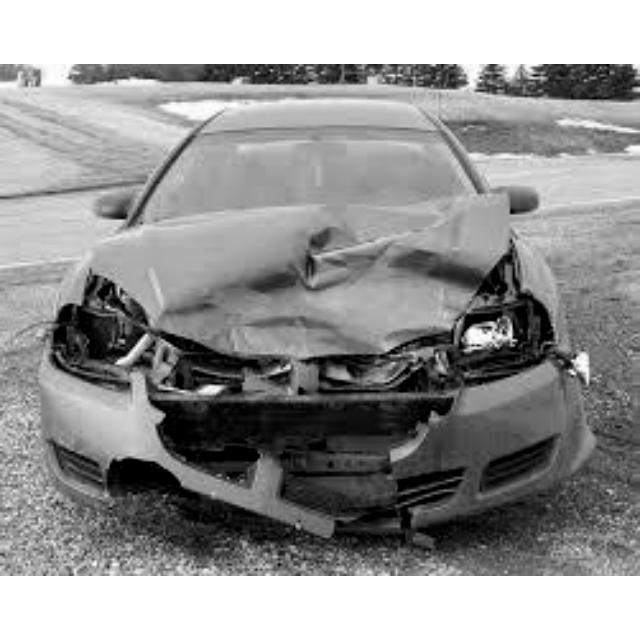Headlight-damage: (33, 281, 145, 385), (431, 289, 553, 370)
bonnet-dent: (107, 195, 479, 342)
front-bumper-dent: (102, 381, 540, 518)
